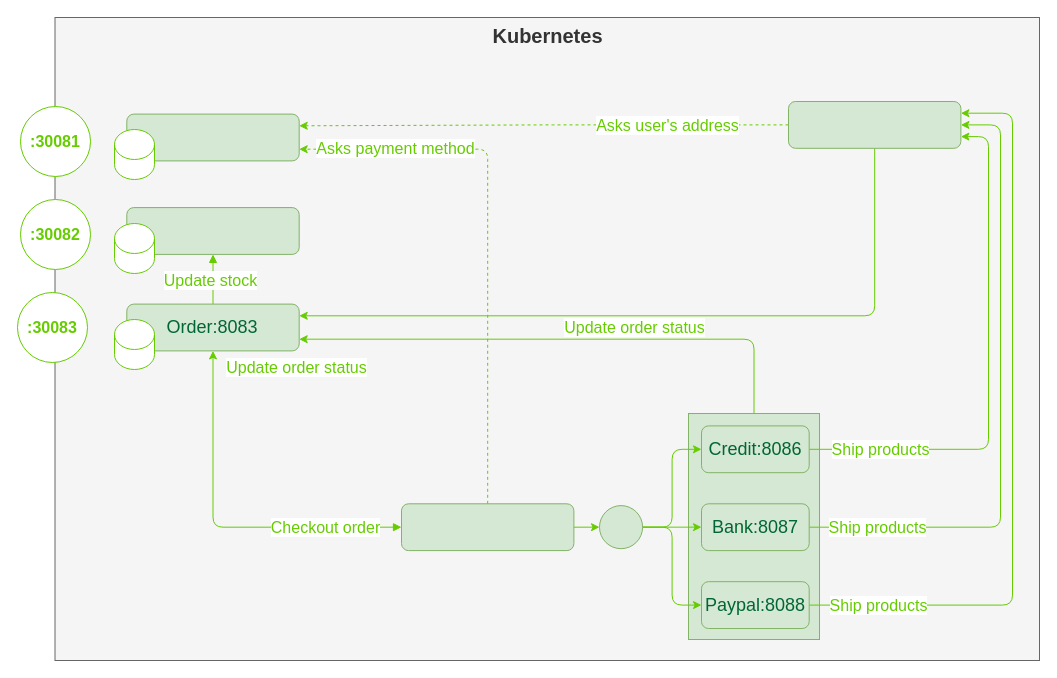
Image size: 1057x678. Some labels were removed from this diagram. The box of each missing label's shape, as (x1, y1, x2, y2) in pixels:
Account:8081: (126, 113, 299, 161)
Payment:8085: (400, 503, 574, 551)
Product:8084: (126, 207, 299, 254)
Shipment:8082: (788, 100, 961, 148)
